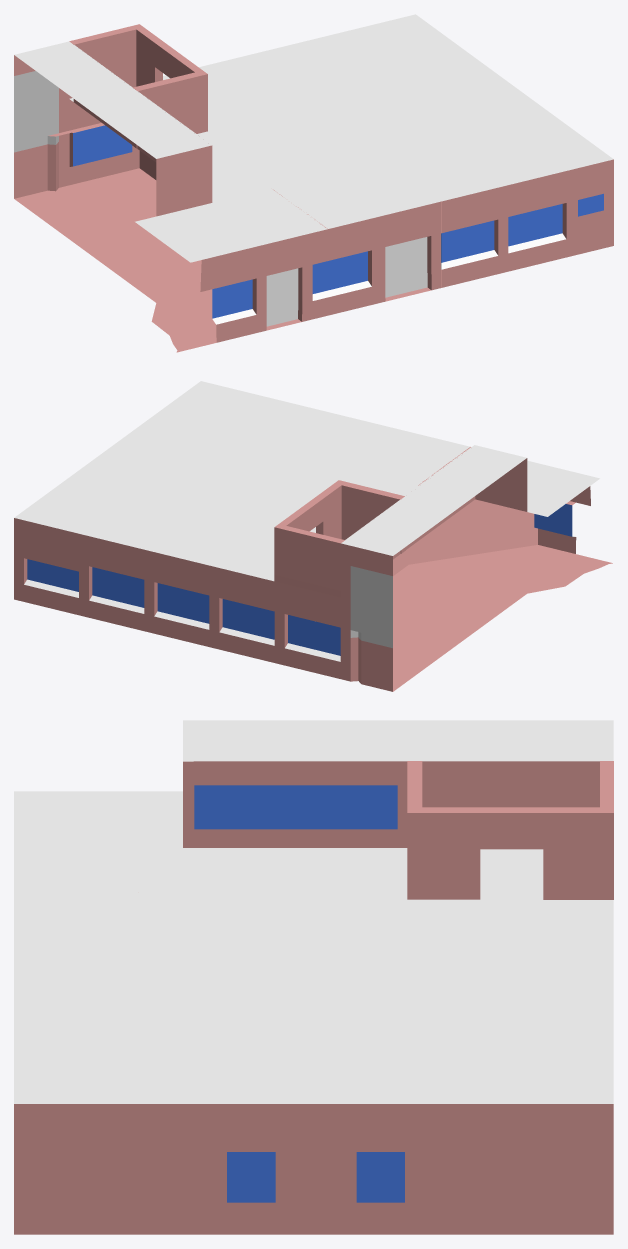
File: kentikusetubi.glb
3 views of the same model, one above another, from view 1: azimuth 30°, elevation 25°; view 2: azimuth 150°, elevation 25°; view 3: azimuth 270°, elevation 25° (orthographic). The views are drawn at different scales.
Parts seen in each view (by area): view 1: 手前; view 2: 手前; view 3: 手前.
Part boxes in pixels (x1,y1,x2,y2): 手前: (14,14,613,352); 手前: (14,381,612,691); 手前: (14,720,613,1234).
Bounding box in the file's own units: 8.74 × 2.75 × 6.86.
1 material, 1 textured.
